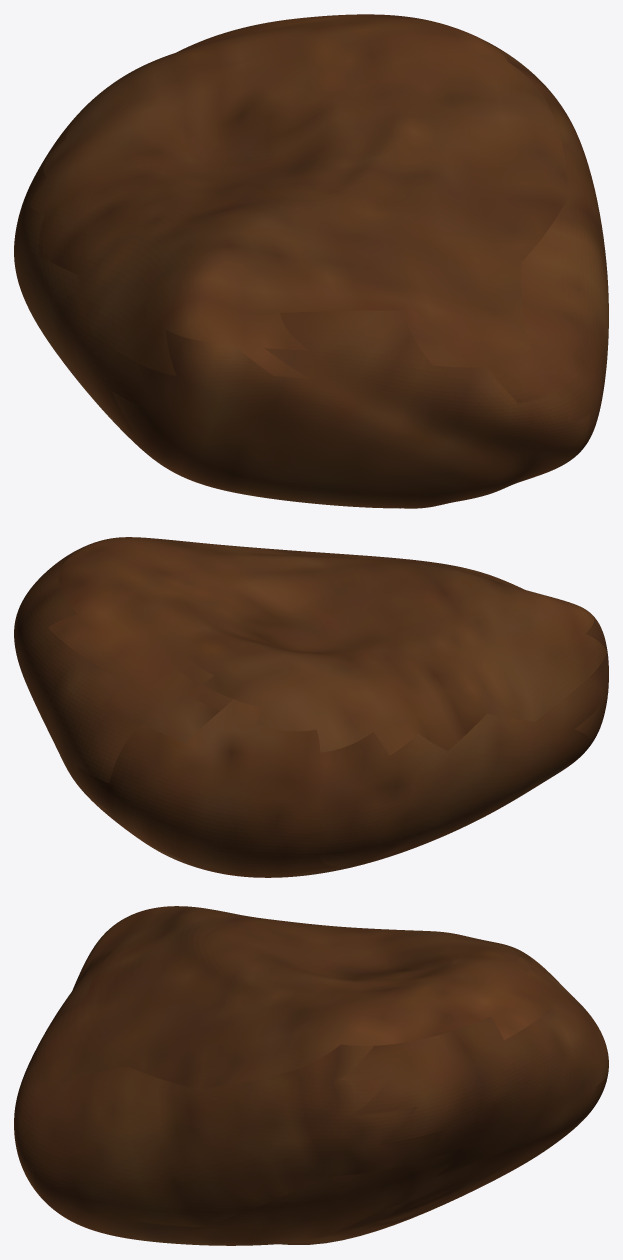
File: Doo Doo Crumb.fbx
The picture shows the model from 3 angles, top to bottom: view 1: azimuth 30°, elevation 25°; view 2: azimuth 150°, elevation 25°; view 3: azimuth 270°, elevation 25°; orthographic projection. The views are drawn at different scales.
Parts seen in each view (by area): view 1: Sphere; view 2: Sphere; view 3: Sphere.
Part boxes in pixels (<box>): Sphere: <box>14,14,608,508</box>; Sphere: <box>14,537,608,877</box>; Sphere: <box>14,906,608,1245</box>.
Size of the model in its own units: 224 by 134 by 257.
1 material, 1 textured.
